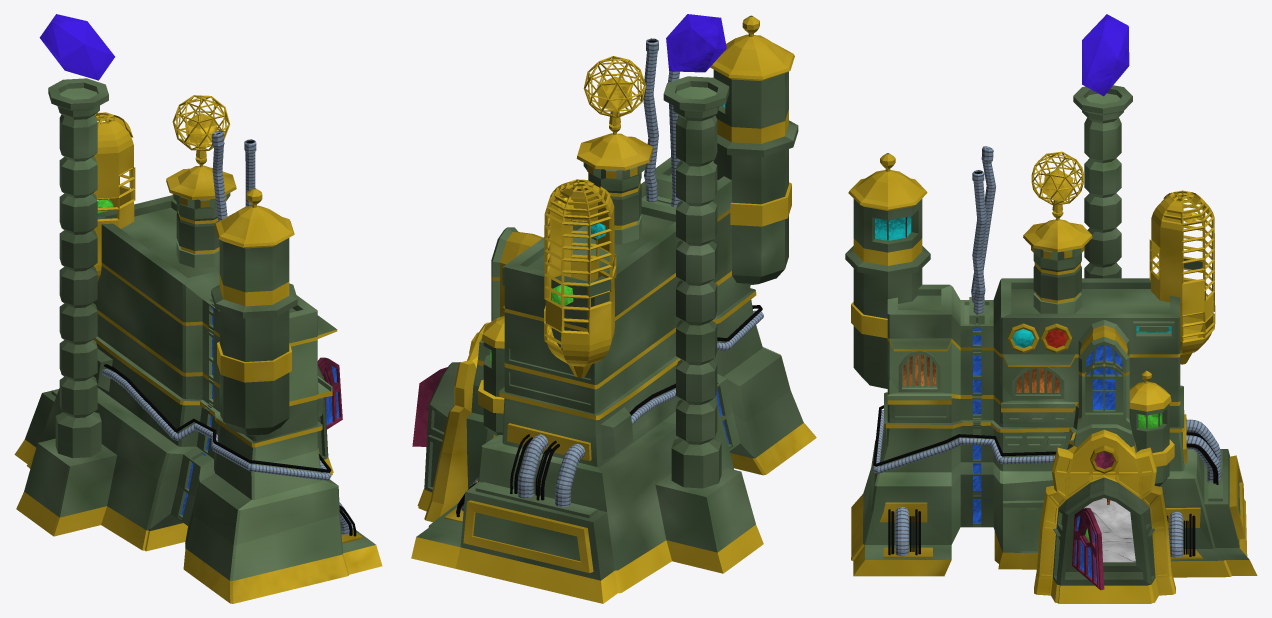
The model's file is Labo.glb.
3 views of the same model, side by side, from view 1: azimuth 30°, elevation 25°; view 2: azimuth 150°, elevation 25°; view 3: azimuth 270°, elevation 25° (orthographic). The views are drawn at different scales.
Parts seen in each view (by area): view 1: Labo_0; view 2: Labo_0; view 3: Labo_0.
Boxes of the visible parts, x1=… form: Labo_0: x1=14, y1=14, x2=382, y2=603; Labo_0: x1=411, y1=14, x2=816, y2=603; Labo_0: x1=845, y1=14, x2=1257, y2=603.
Size of the model in its own units: 2.14 by 3.3 by 2.62.
21 materials, 13 textured.
